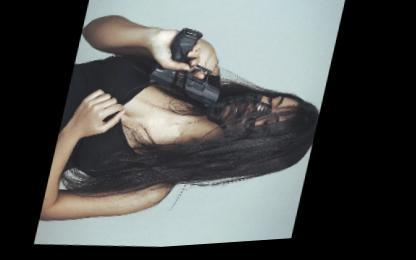pistol: (146, 26, 236, 114)
